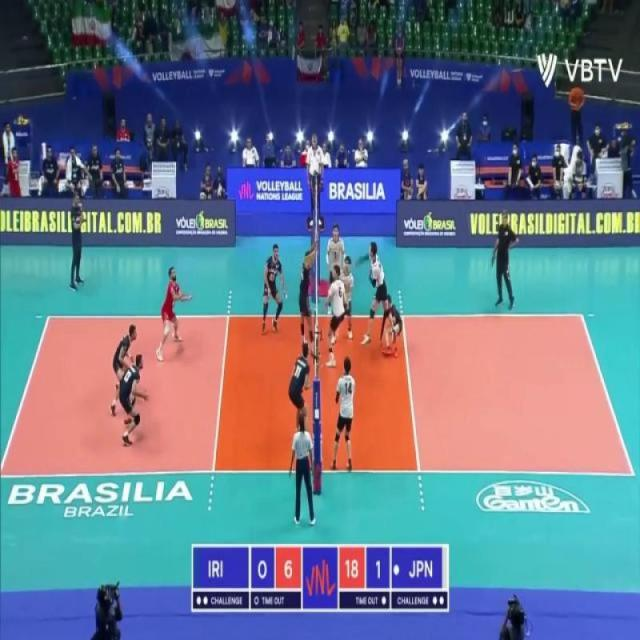volleyball: (303, 252, 315, 266)
